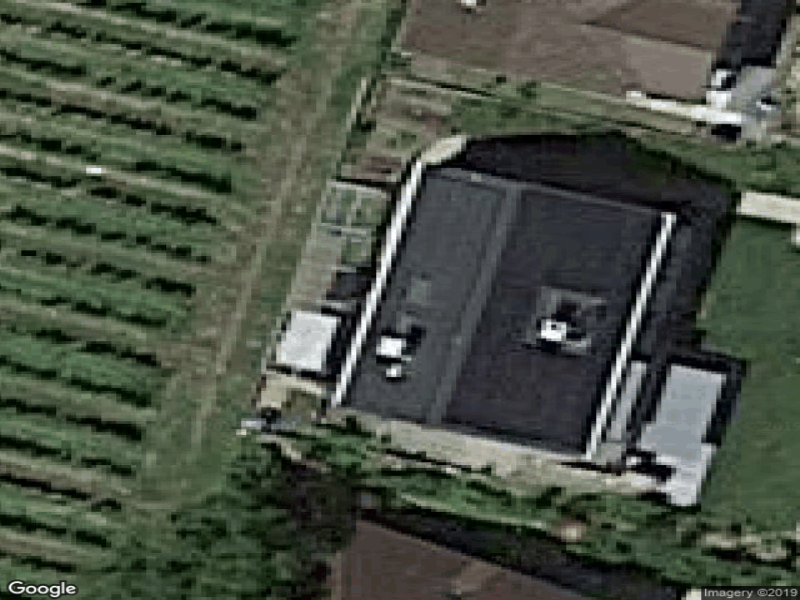pv: (442, 189, 661, 455)
